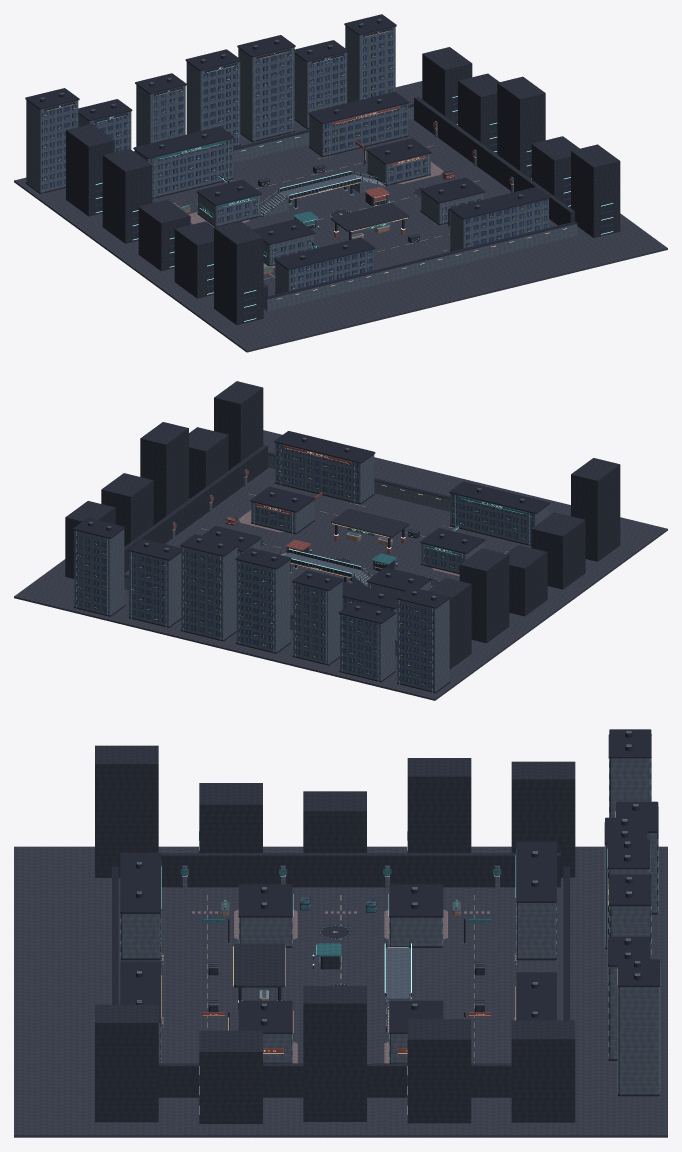
File: neon-district.glb
The picture shows the model from 3 angles, top to bottom: view 1: azimuth 30°, elevation 25°; view 2: azimuth 150°, elevation 25°; view 3: azimuth 270°, elevation 25°; orthographic projection. The views are drawn at different scales.
Visible parts, largest first — view 1: Perimeter skyline and guideways, Roads and transit art, Ember courtyards, Aster courtyards, Skybridge and market gallery; view 2: Perimeter skyline and guideways, Roads and transit art, Ember courtyards, Aster courtyards, Skybridge and market gallery; view 3: Roads and transit art, Perimeter skyline and guideways, Aster courtyards, Ember courtyards, Skybridge and market gallery.
Boxes of the visible parts, box(x1,y1,x2,y2) form: Perimeter skyline and guideways: box(25, 14, 620, 325); Roads and transit art: box(14, 81, 667, 352); Ember courtyards: box(308, 91, 574, 251); Aster courtyards: box(133, 126, 375, 309); Skybridge and market gallery: box(260, 170, 408, 240); Perimeter skyline and guideways: box(65, 381, 620, 692); Roads and transit art: box(14, 430, 667, 700); Ember courtyards: box(124, 431, 375, 572); Aster courtyards: box(342, 481, 550, 640); Skybridge and market gallery: box(274, 509, 408, 587); Roads and transit art: box(14, 846, 667, 1137); Perimeter skyline and guideways: box(95, 729, 660, 1123); Aster courtyards: box(120, 841, 560, 975); Ember courtyards: box(120, 961, 557, 1097); Skybridge and market gallery: box(233, 942, 411, 1032).
Size of the model in its own units: 118 by 24.27 by 113.
Materials: 15 (7 with a texture image).
